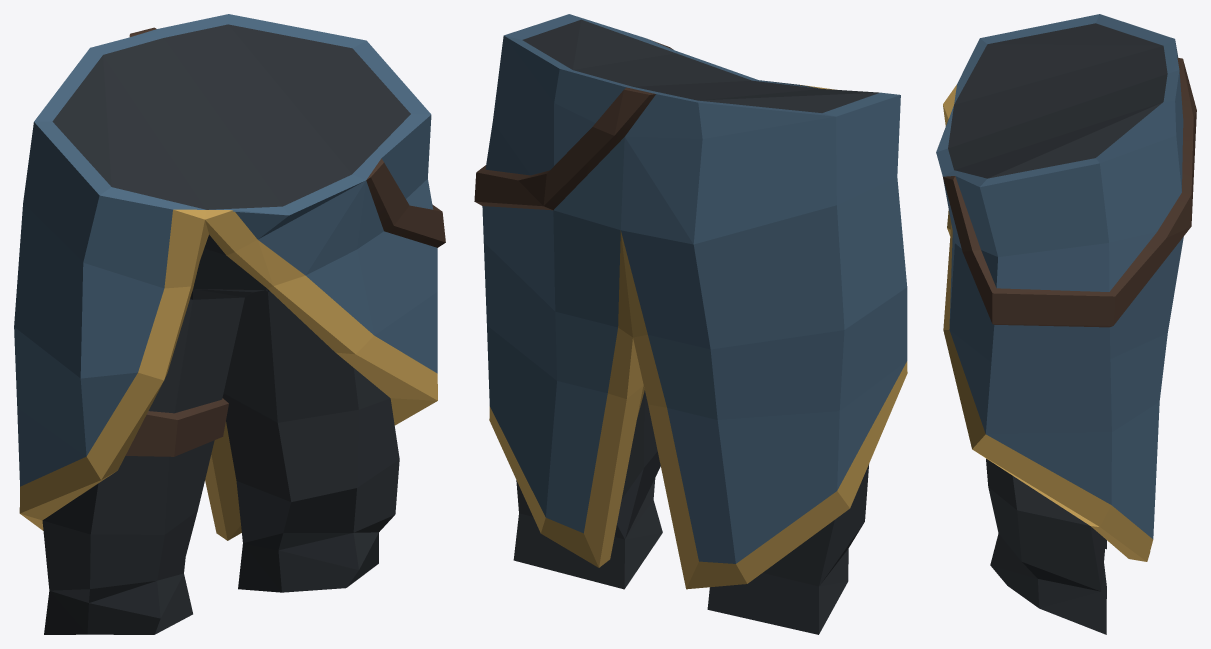
File: Chr_Hips_Female_04_Static.fbx
3 renders of one model, left to right at view 1: azimuth 30°, elevation 25°; view 2: azimuth 150°, elevation 25°; view 3: azimuth 270°, elevation 25°, orthographic. The views are drawn at different scales.
Visible parts, largest first — view 1: Chr_Hips_Female_04_Static; view 2: Chr_Hips_Female_04_Static; view 3: Chr_Hips_Female_04_Static.
Boxes of the visible parts, bbox=[...] form: Chr_Hips_Female_04_Static: bbox=[14, 14, 445, 634]; Chr_Hips_Female_04_Static: bbox=[474, 14, 907, 634]; Chr_Hips_Female_04_Static: bbox=[936, 14, 1196, 634].
Size of the model in its own units: 0.4136 by 0.5806 by 0.2756.
